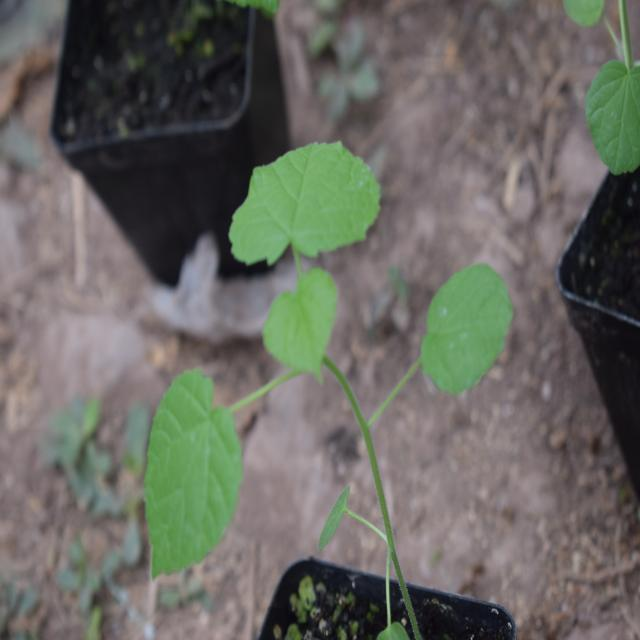abutilon theophrasti: (122, 134, 496, 559)
